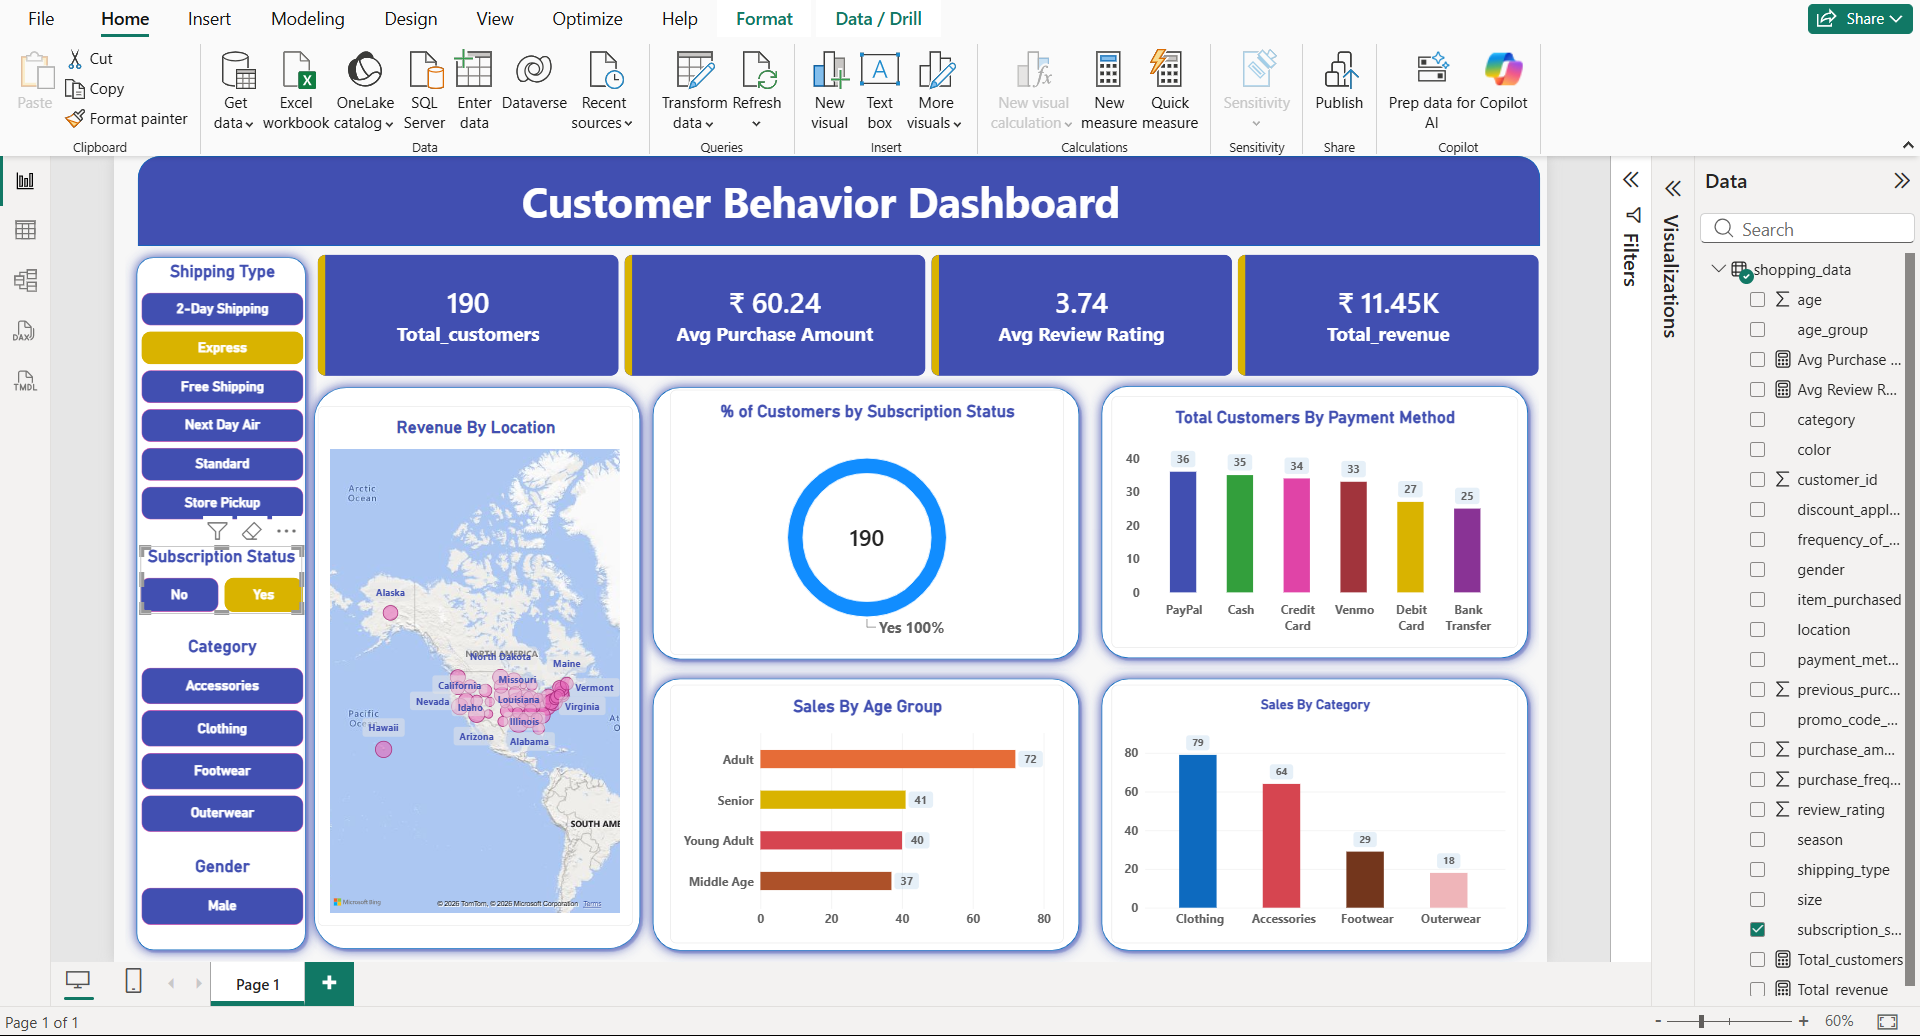

What the dashboard file says about the page in this screenshot:
{"tool":"powerbi","page":{"name":"Page 1","canvas":[1920,1080],"ordinal":0},"visuals":[{"type":"cardVisual","fields":{"Data":["shopping_data.Total_customers","shopping_data.Avg Purchase Amount","shopping_data.Avg Review Rating","shopping_data.Total_revenue"]},"box":[272.4,132.8,1637.9,162.1],"z":0},{"type":"shape","box":[31,0,1879.3,120.7],"z":1},{"type":"textbox","box":[31,22.4,1831,98.3],"z":2},{"type":"shape","box":[706.9,294.8,601.7,394.8],"z":3},{"type":"donutChart","title":"% of Customers by Subscription Status","fields":{"Category":["shopping_data.subscription_status"],"Y":["CountNonNull(shopping_data.customer_id)"]},"box":[744.8,313.8,527.6,355.2],"z":4},{"type":"shape","box":[1308.6,684.5,601.7,394.8],"z":10},{"type":"shape","box":[1308.6,293.1,601.7,394.8],"z":11},{"type":"columnChart","title":"Total Customers By Payment Method","fields":{"Category":["shopping_data.payment_method"],"Y":["CountNonNull(shopping_data.customer_id)"]},"box":[1336.2,322.4,544.8,337.9],"z":12},{"type":"clusteredColumnChart","title":"Sales By Category","fields":{"Category":["shopping_data.category"],"Y":["CountNonNull(shopping_data.customer_id)"]},"box":[1336.2,708.6,544.8,346.6],"z":13},{"type":"shape","box":[15.5,120.7,256.9,958.6],"z":14},{"type":"advancedSlicerVisual","title":"Shipping Type","fields":{"Values":["shopping_data.shipping_type"]},"box":[36.2,141.4,217.2,346.6],"z":15},{"type":"advancedSlicerVisual","title":"Gender","fields":{"Values":["shopping_data.gender"]},"box":[36.2,937.9,217.2,93.1],"z":17},{"type":"advancedSlicerVisual","title":"Subscription Status","fields":{"Values":["shopping_data.subscription_status"]},"box":[36.2,524.1,217.2,91.4],"z":18},{"type":"advancedSlicerVisual","title":"Category","fields":{"Values":["shopping_data.category"]},"box":[36.2,643.1,217.2,263.8],"z":19},{"type":"shape","box":[706.9,684.5,601.7,394.8],"z":20},{"type":"shape","box":[253.4,294.8,467.2,782.8],"z":22},{"type":"map","title":"Revenue By Location","fields":{"Category":["shopping_data.location"],"Size":["shopping_data.Total_revenue"]},"box":[272.4,334.5,422.4,696.6],"z":23},{"type":"clusteredBarChart","title":"Sales By Age Group","fields":{"Category":["shopping_data.age_group"],"Y":["CountNonNull(shopping_data.customer_id)"]},"box":[744.8,708.6,527.6,346.6],"z":24}]}

Visuals, with their boxes on the page's 1920x1080 design canvas (x1, y1, x2, y2). These are canvas units, not pixel positions in the 1920x1036 screenshot, which may show the page scaled, cropped or inside an application window:
cardVisual - shopping_data.Total_customers x shopping_data.Avg Purchase Amount: 272/133/1910/295
shape: 31/0/1910/121
textbox: 31/22/1862/121
shape: 707/295/1309/690
"% of Customers by Subscription Status" donutChart: 745/314/1272/669
shape: 1309/684/1910/1079
shape: 1309/293/1910/688
"Total Customers By Payment Method" columnChart: 1336/322/1881/660
"Sales By Category" clusteredColumnChart: 1336/709/1881/1055
shape: 16/121/272/1079
"Shipping Type" advancedSlicerVisual: 36/141/253/488
"Gender" advancedSlicerVisual: 36/938/253/1031
"Subscription Status" advancedSlicerVisual: 36/524/253/616
"Category" advancedSlicerVisual: 36/643/253/907
shape: 707/684/1309/1079
shape: 253/295/721/1078
"Revenue By Location" map: 272/334/695/1031
"Sales By Age Group" clusteredBarChart: 745/709/1272/1055
